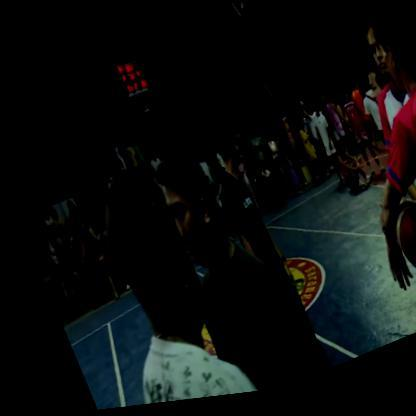basketball: (373, 199, 416, 297)
